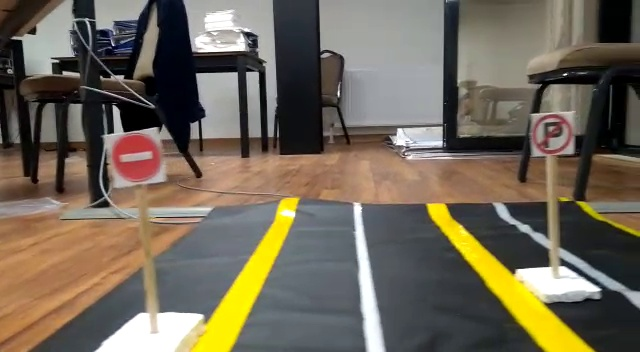girisi_olmayan_yol: (110, 130, 163, 184)
park_yapilmaz: (530, 112, 573, 154)
